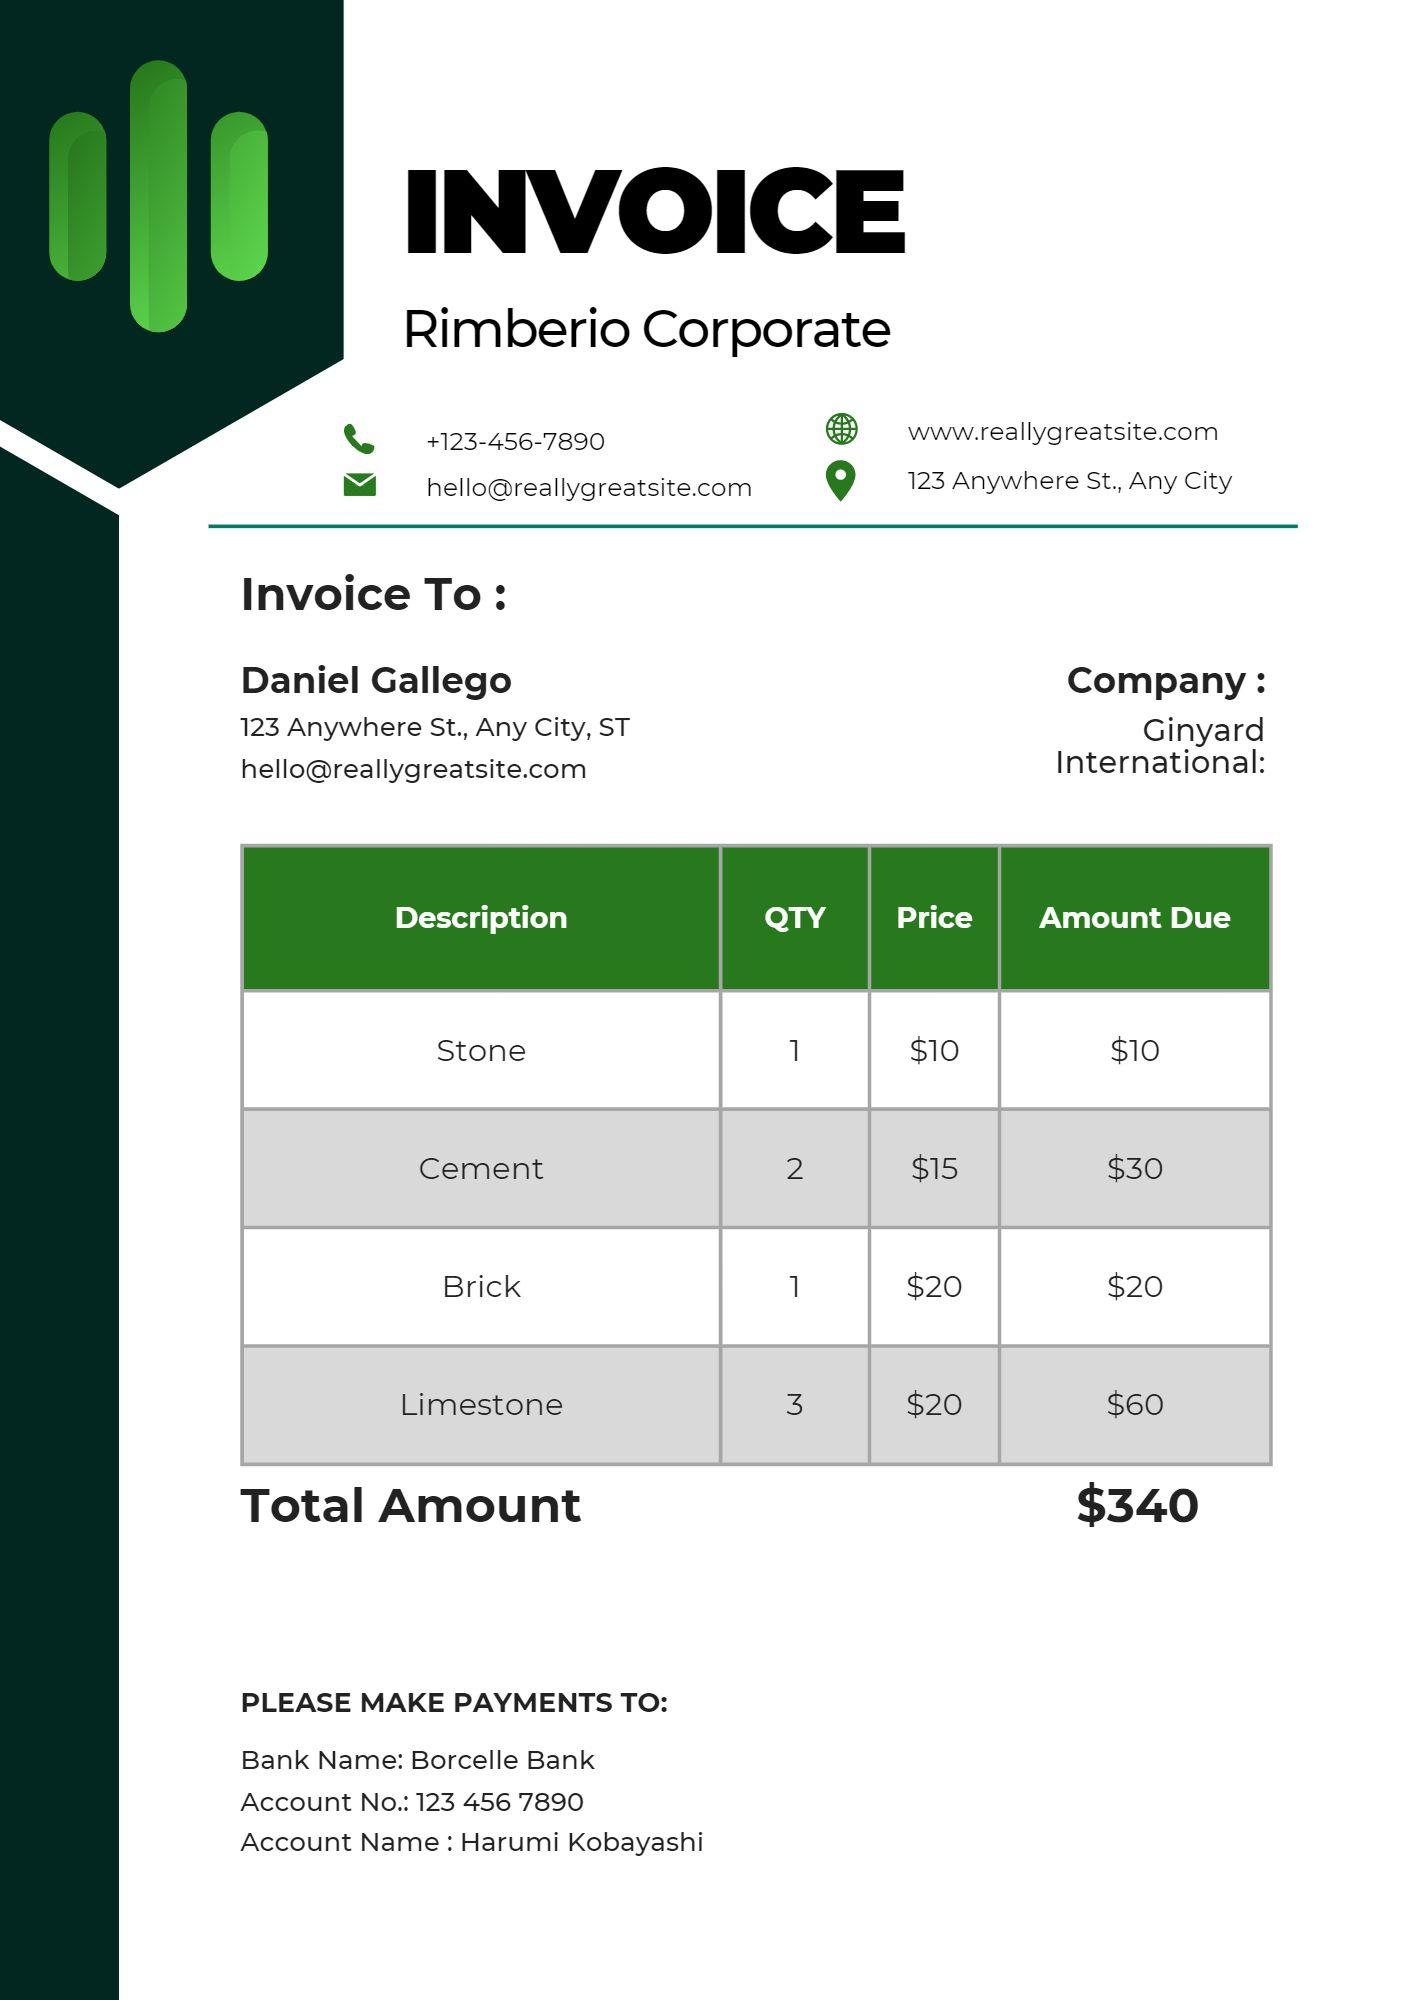ROI: (228, 825, 1282, 1478)
